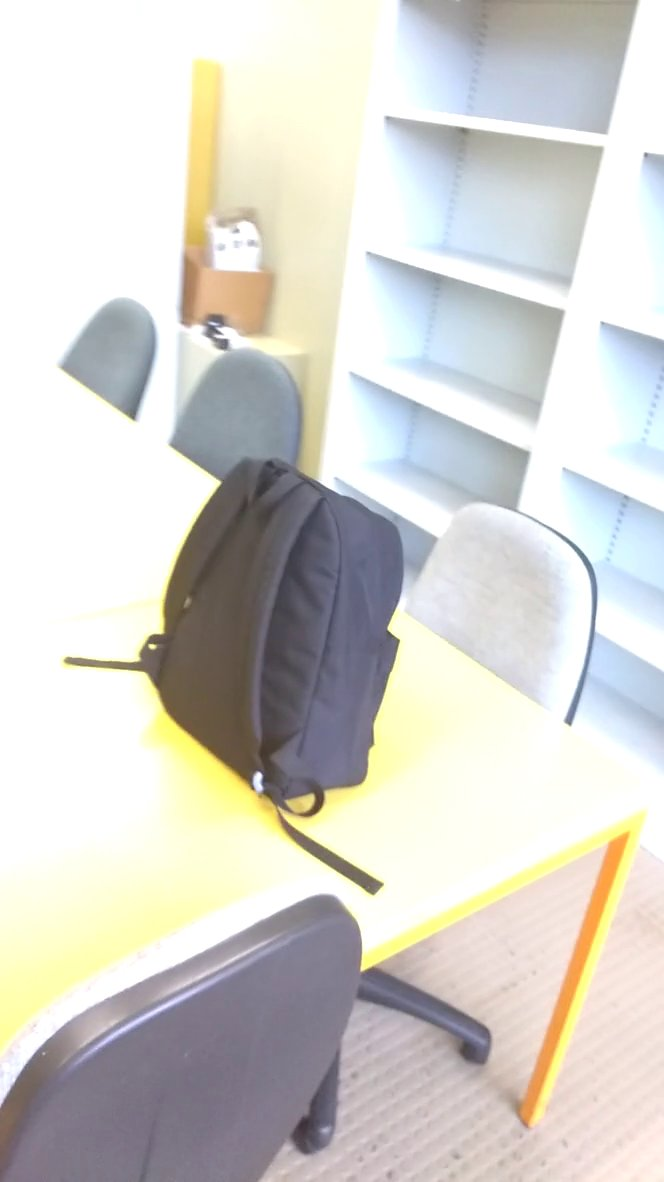bag: (129, 447, 413, 835)
chair: (2, 880, 385, 1182), (399, 479, 602, 752), (162, 344, 319, 525), (49, 284, 165, 434)
